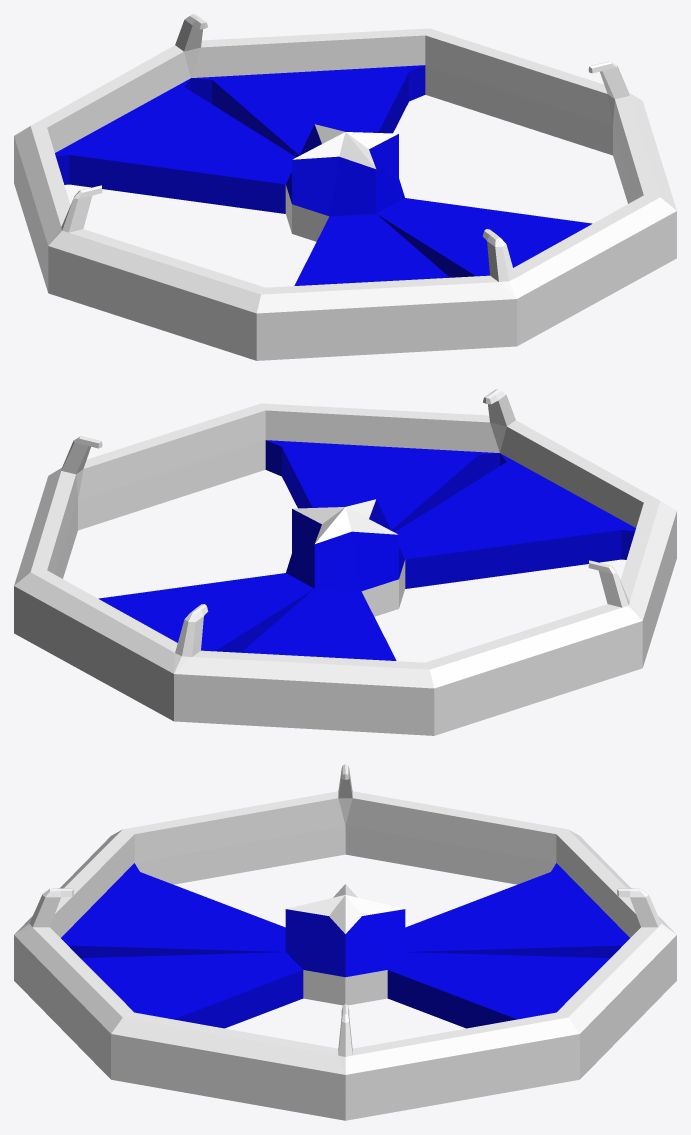
Rendered from Robot.glb.
3 views of the same model, one above another, from view 1: azimuth 30°, elevation 25°; view 2: azimuth 150°, elevation 25°; view 3: azimuth 270°, elevation 25° (orthographic). The views are drawn at different scales.
Parts seen in each view (by area): view 1: Robot; view 2: Robot; view 3: Robot.
Part boxes in pixels (x1=…): Robot: x1=14, y1=14, x2=676, y2=360; Robot: x1=14, y1=389, x2=676, y2=735; Robot: x1=14, y1=764, x2=676, y2=1120.
Bounding box in the file's own units: 2.1 × 0.32 × 2.1.
